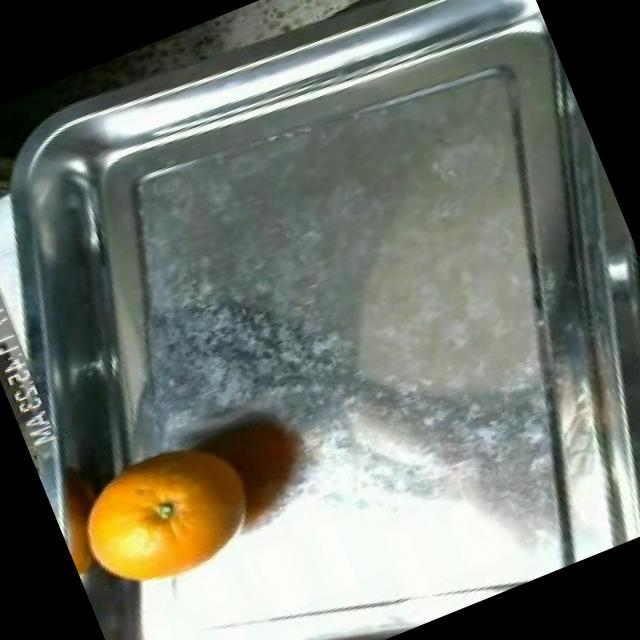Fruit: (46, 413, 306, 631), (593, 211, 640, 363)
